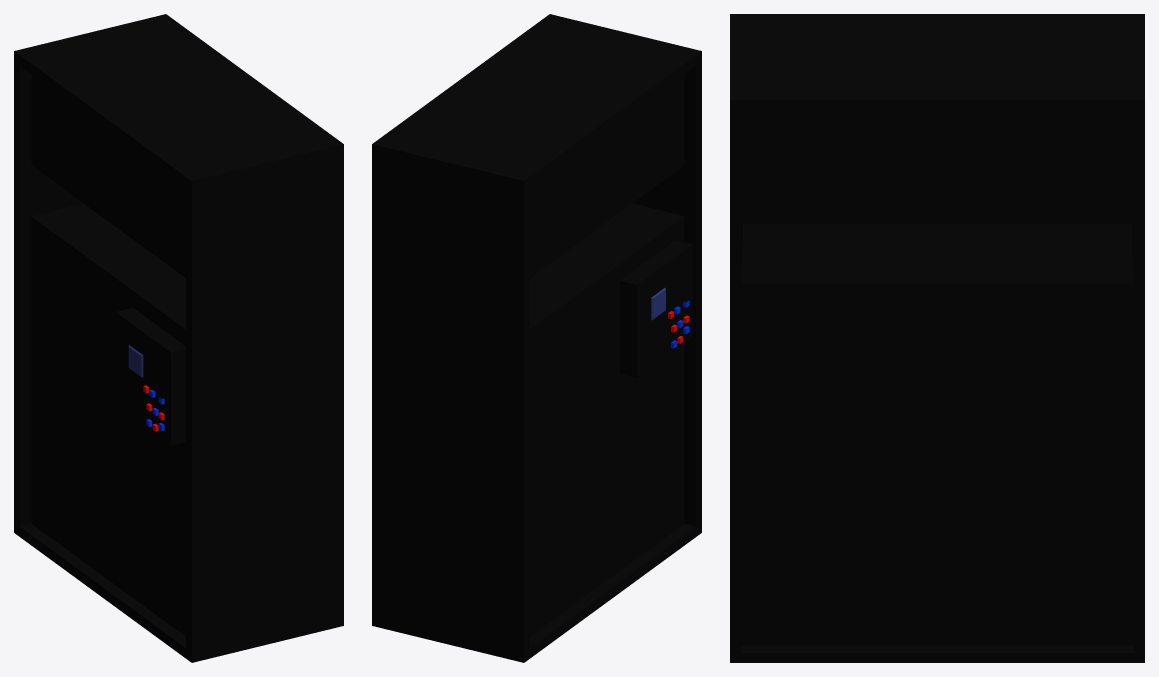
Rendered from server.gltf.
3 renders of one model, left to right at view 1: azimuth 30°, elevation 25°; view 2: azimuth 150°, elevation 25°; view 3: azimuth 270°, elevation 25°, orthographic. The views are drawn at different scales.
Parts seen in each view (by area): view 1: Cube; view 2: Cube; view 3: Cube.
Boxes of the visible parts, left/top/right/bottom form: Cube: left=14, top=14, right=343, bottom=662; Cube: left=372, top=14, right=701, bottom=662; Cube: left=730, top=14, right=1144, bottom=662.
Size of the model in its own units: 2.12 by 6.06 by 4.05.
1 material, 1 textured.
